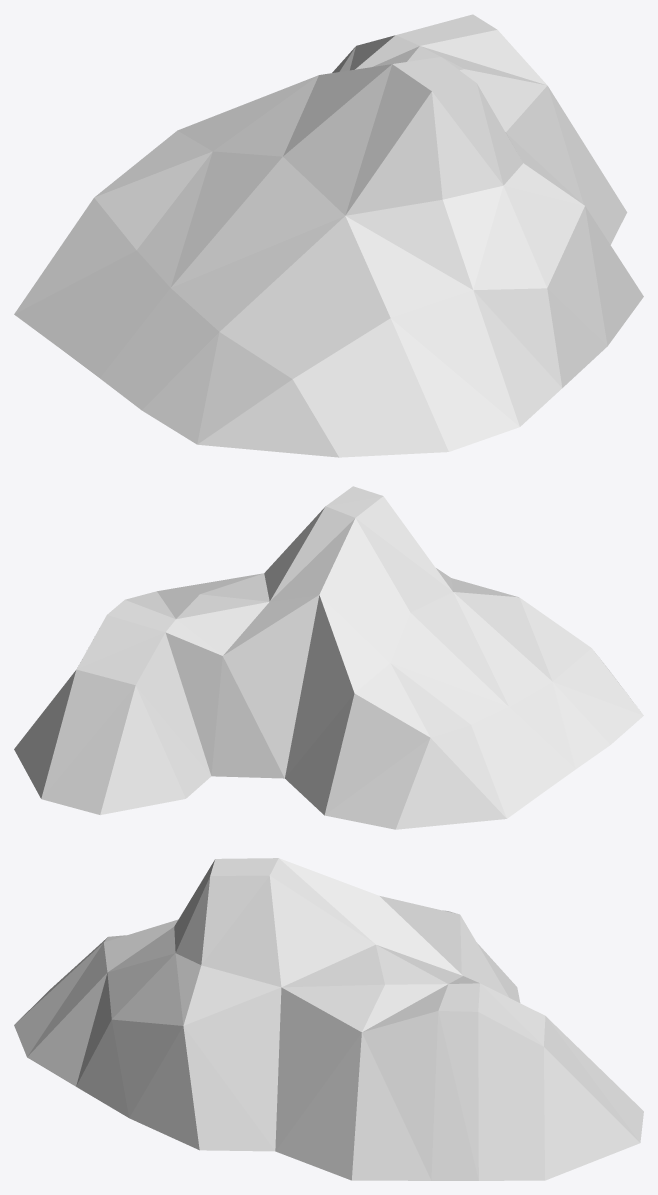
Rendered from SM_Env_Hills_02_02.obj.
The picture shows the model from 3 angles, top to bottom: view 1: azimuth 30°, elevation 25°; view 2: azimuth 150°, elevation 25°; view 3: azimuth 270°, elevation 25°; orthographic projection. The views are drawn at different scales.
Parts seen in each view (by area): view 1: SM_Env_Hills_02:Mesh; view 2: SM_Env_Hills_02:Mesh; view 3: SM_Env_Hills_02:Mesh.
Part boxes in pixels (left/top/right/bottom): SM_Env_Hills_02:Mesh: left=14, top=14, right=643, bottom=457; SM_Env_Hills_02:Mesh: left=14, top=486, right=643, bottom=829; SM_Env_Hills_02:Mesh: left=14, top=858, right=643, bottom=1180.
Bounding box in the file's own units: 19 × 7.94 × 21.73.
1 material, 1 textured.
